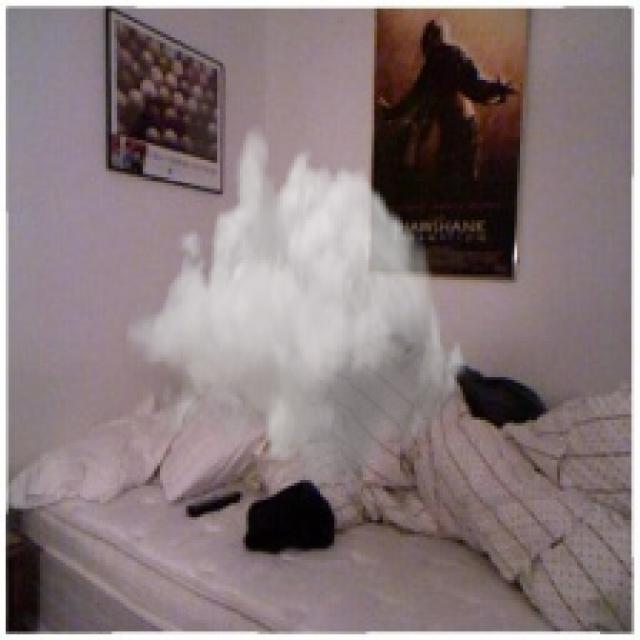smoke: (123, 120, 468, 509)
